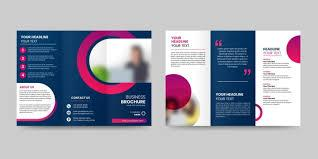paper: (165, 27, 303, 127), (15, 28, 152, 127)
